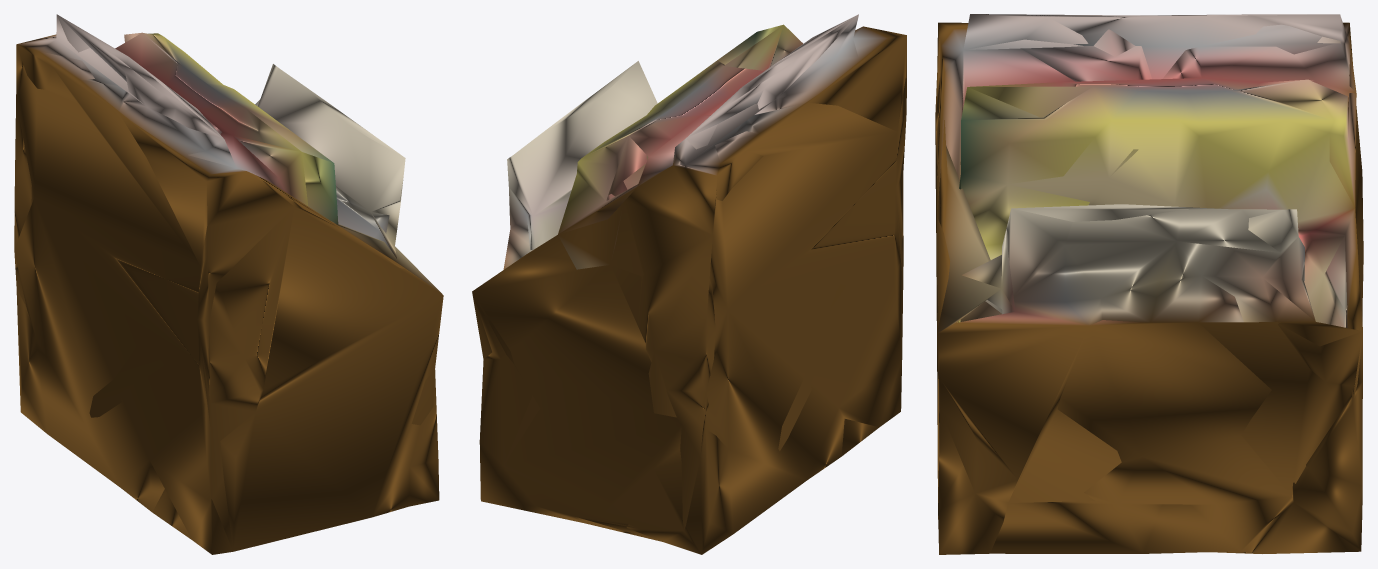
Rendered from gen3d-magazine-rack-lod0.glb.
The picture shows the model from 3 angles, left to right: view 1: azimuth 30°, elevation 25°; view 2: azimuth 150°, elevation 25°; view 3: azimuth 270°, elevation 25°; orthographic projection. The views are drawn at different scales.
Visible parts, largest first — view 1: part_0; view 2: part_0; view 3: part_0.
Boxes of the visible parts, x1,y1,x2,y2 form: part_0: (14, 14, 443, 554); part_0: (472, 14, 906, 554); part_0: (935, 14, 1363, 554).
Size of the model in its own units: 0.6145 by 0.9989 by 0.8825.
